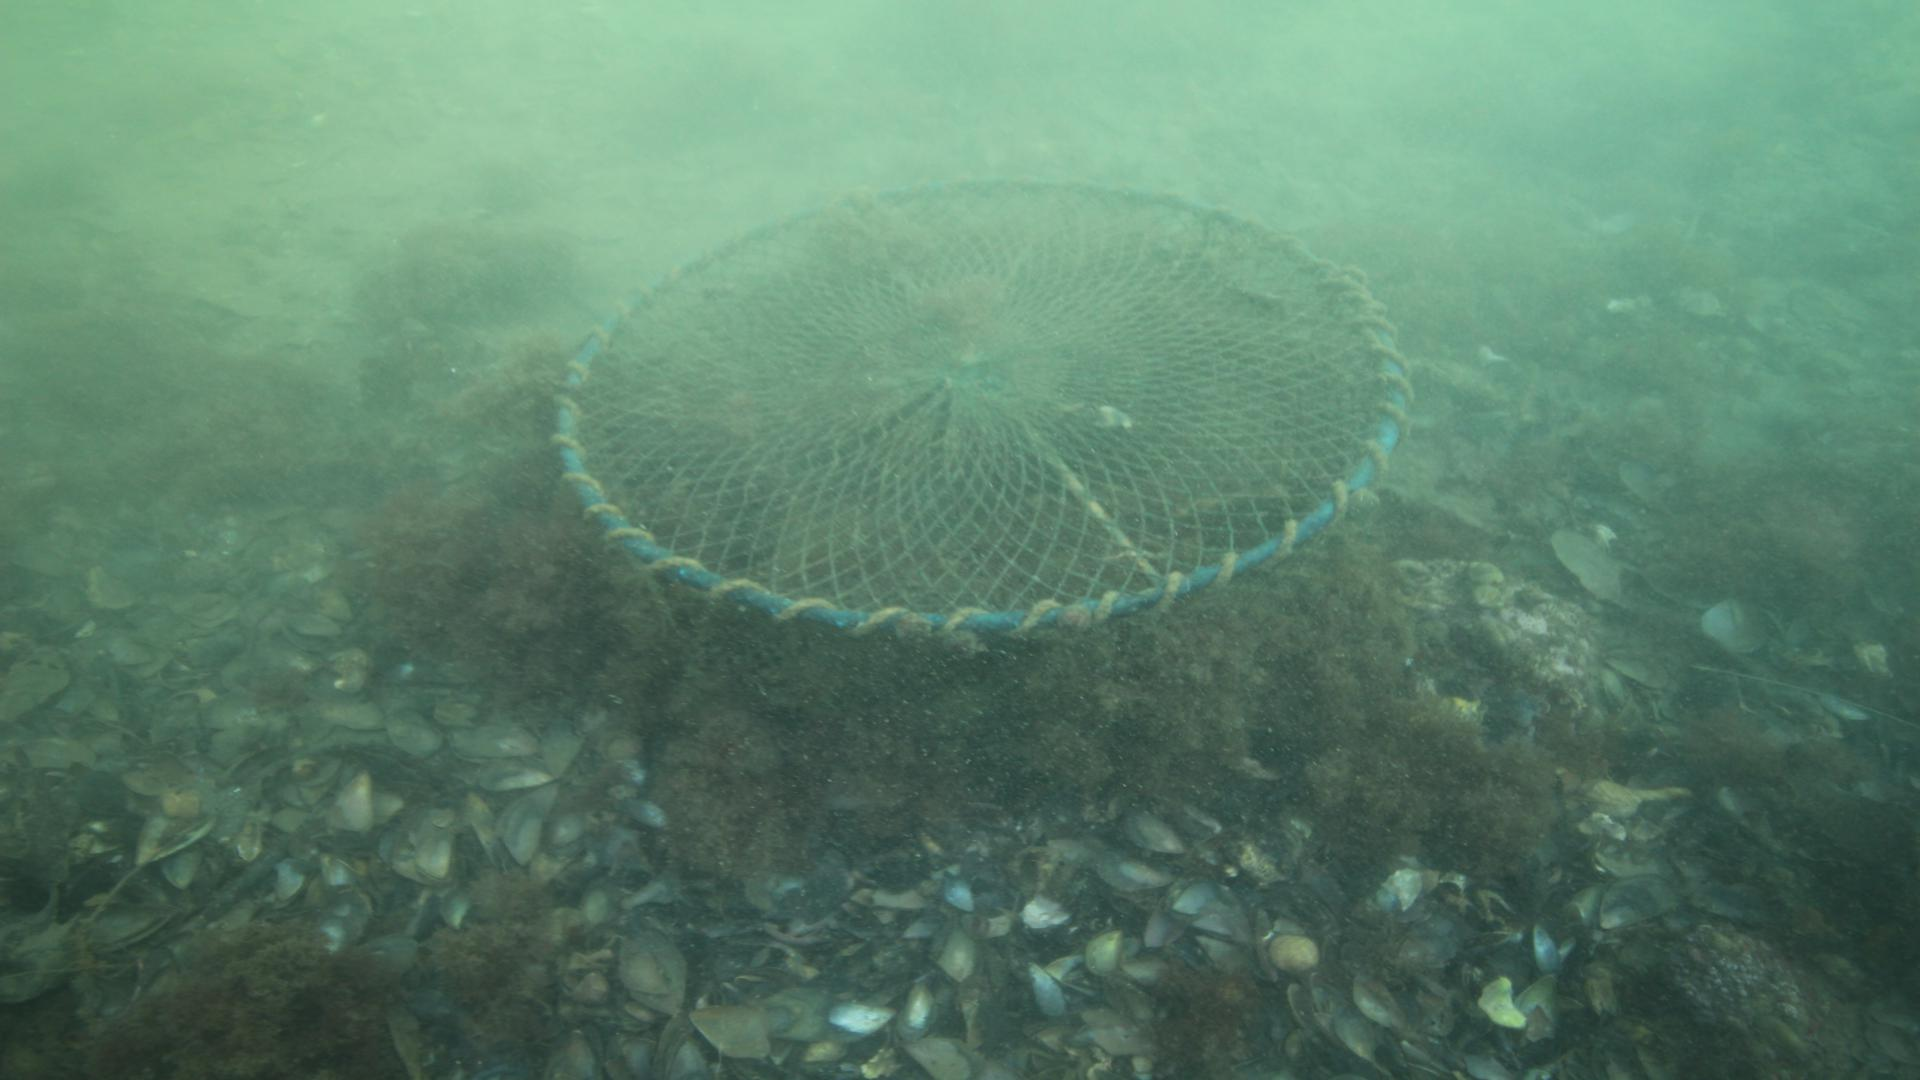circular fish trap: (550, 173, 1412, 713)
